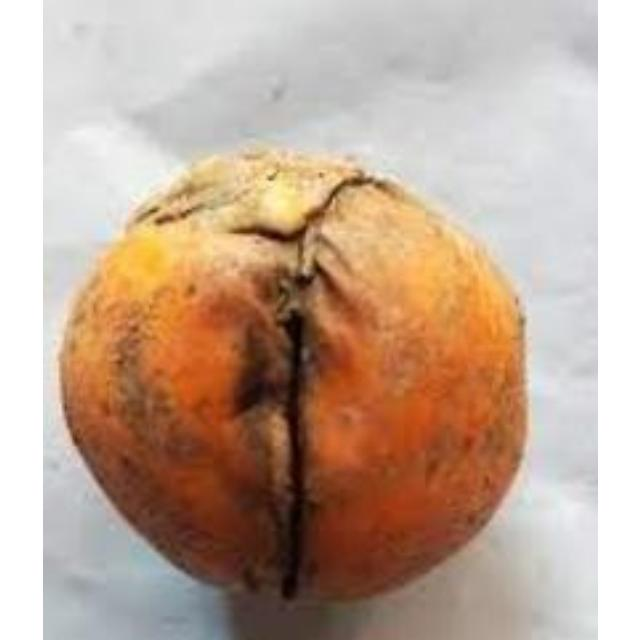damaged: (58, 149, 523, 598)
